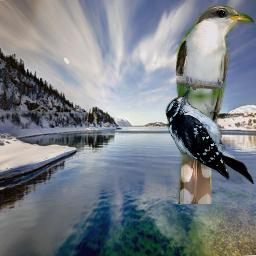Cuckoo: (174, 4, 255, 204)
Woodpecker: (164, 90, 256, 184)
